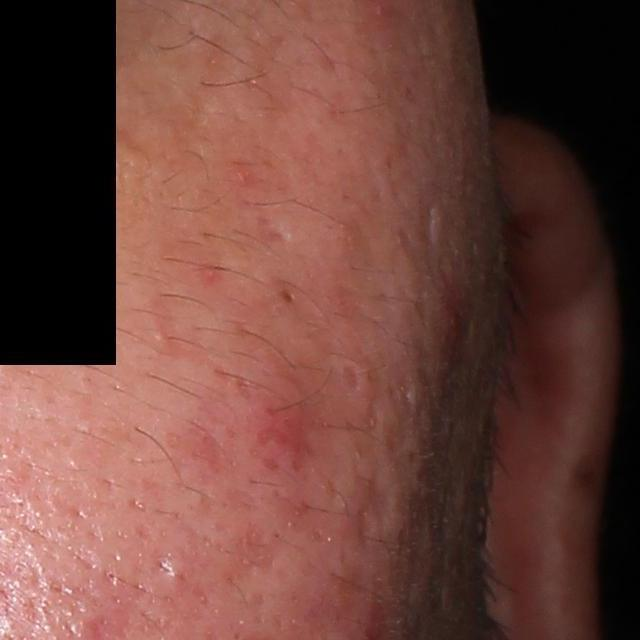atrophic_scar: (345, 477, 405, 558), (253, 216, 299, 244), (343, 362, 361, 392)
papule: (247, 395, 317, 475)
